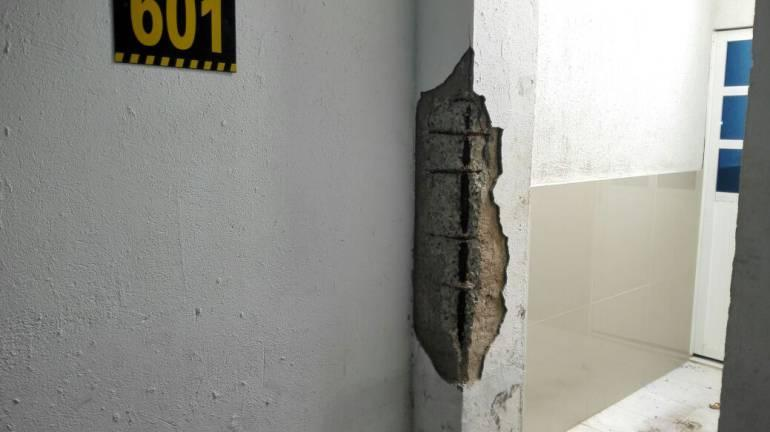exposed_rebar: (433, 108, 484, 235), (446, 235, 480, 357)
spalling: (410, 45, 510, 388)
